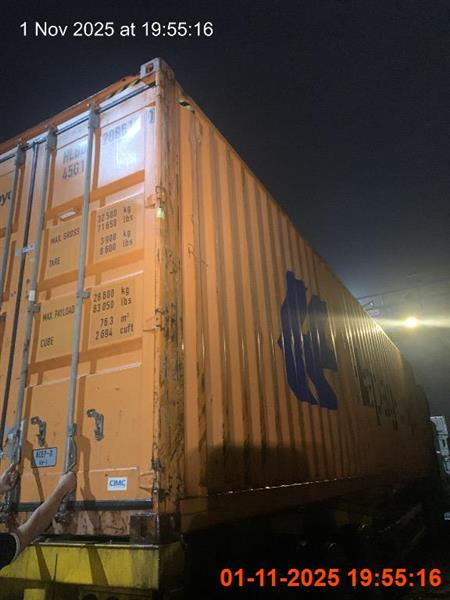bent: (0, 58, 449, 586), (0, 462, 78, 570)
